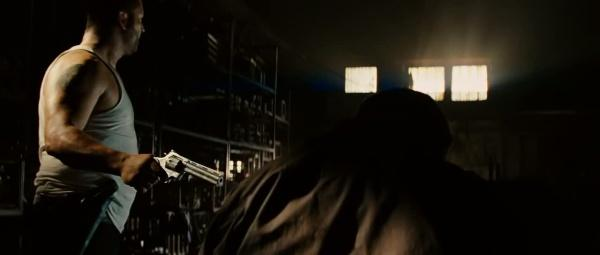Gun: (151, 149, 227, 191)
